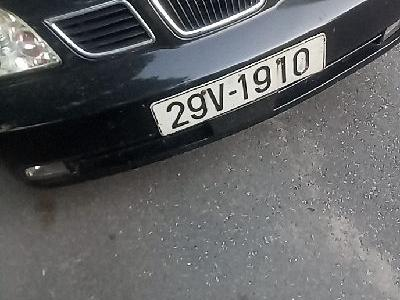number: (152, 33, 328, 138)
